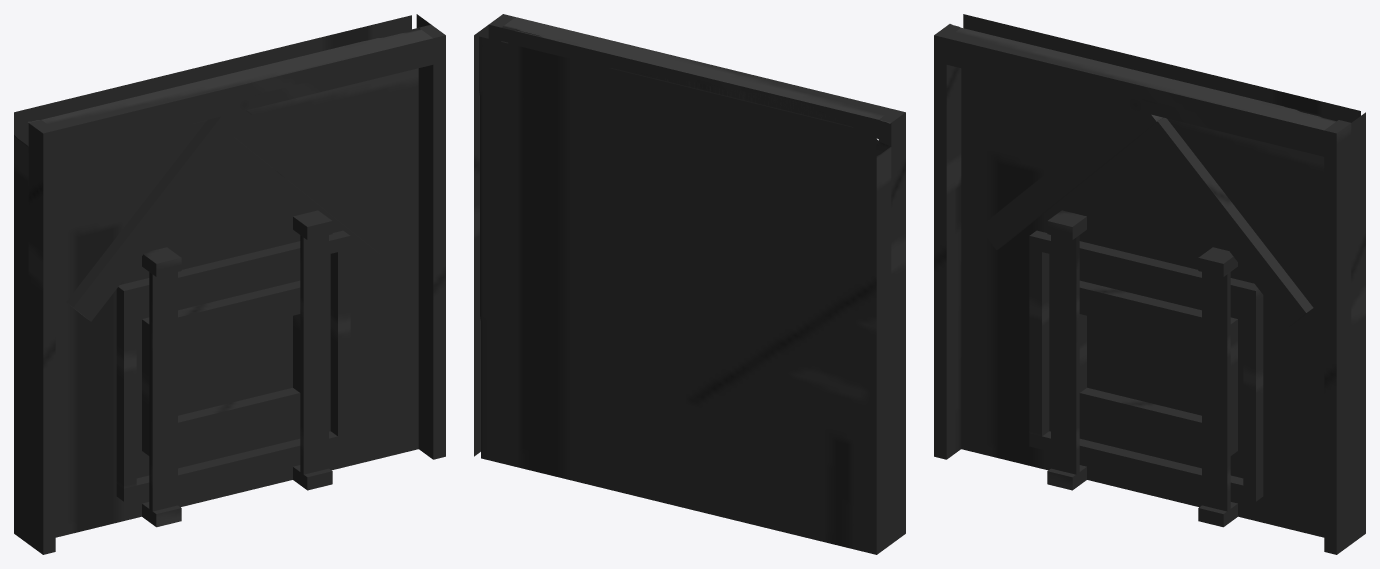
Rendered from c70_front_board.obj.
3 renders of one model, left to right at view 1: azimuth 30°, elevation 25°; view 2: azimuth 150°, elevation 25°; view 3: azimuth 330°, elevation 25°, orthographic.
Parts seen in each view (by area): view 1: cube; view 2: cube; view 3: cube.
Boxes of the visible parts, <box> form: cube: <box>14,14,445,554</box>; cube: <box>474,14,905,554</box>; cube: <box>934,14,1365,554</box>.
Size of the model in its own units: 2 by 2 by 0.25.
